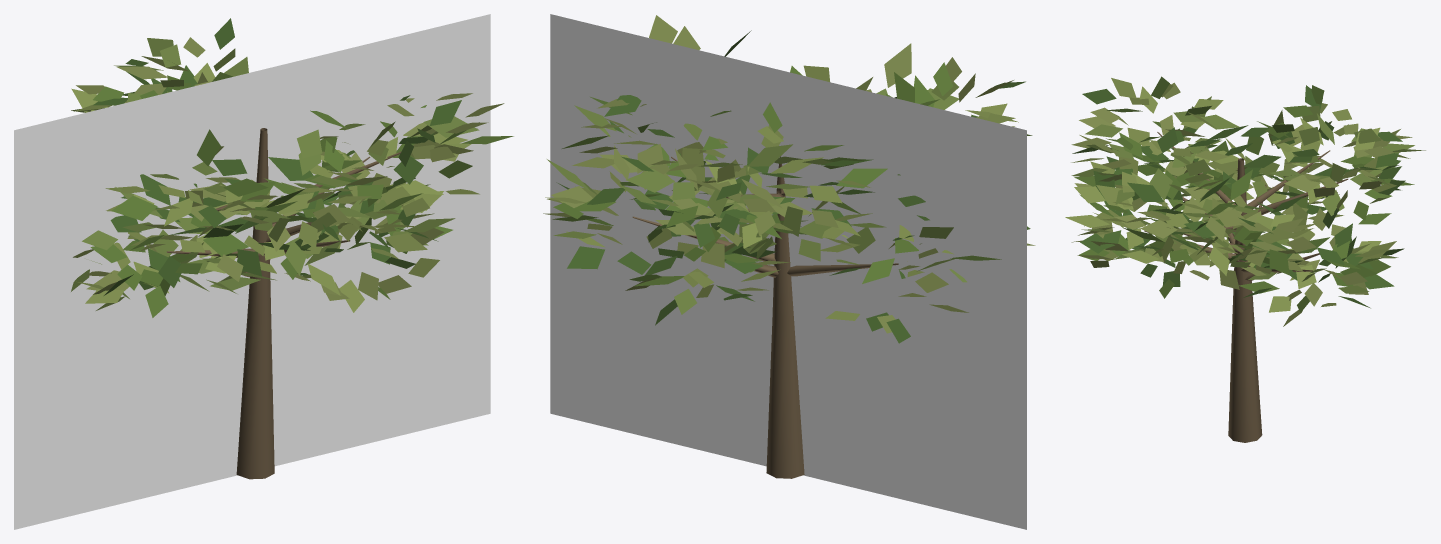
The model's file is almendro.glb.
3 views of the same model, side by side, from view 1: azimuth 30°, elevation 25°; view 2: azimuth 150°, elevation 25°; view 3: azimuth 270°, elevation 25° (orthographic). The views are drawn at different scales.
Parts seen in each view (by area): view 1: veg_almendro_billboard, veg_almendro_lod0; view 2: veg_almendro_billboard, veg_almendro_lod0; view 3: veg_almendro_lod0.
Part boxes in pixels (x1,y1,x2,y2): veg_almendro_billboard: [14, 14, 490, 529]; veg_almendro_lod0: [71, 18, 513, 479]; veg_almendro_billboard: [550, 14, 1026, 529]; veg_almendro_lod0: [543, 15, 1035, 478]; veg_almendro_lod0: [1065, 76, 1425, 442].
Size of what is drawn, in the model's own units: 8.47 by 6.79 by 6.83.
